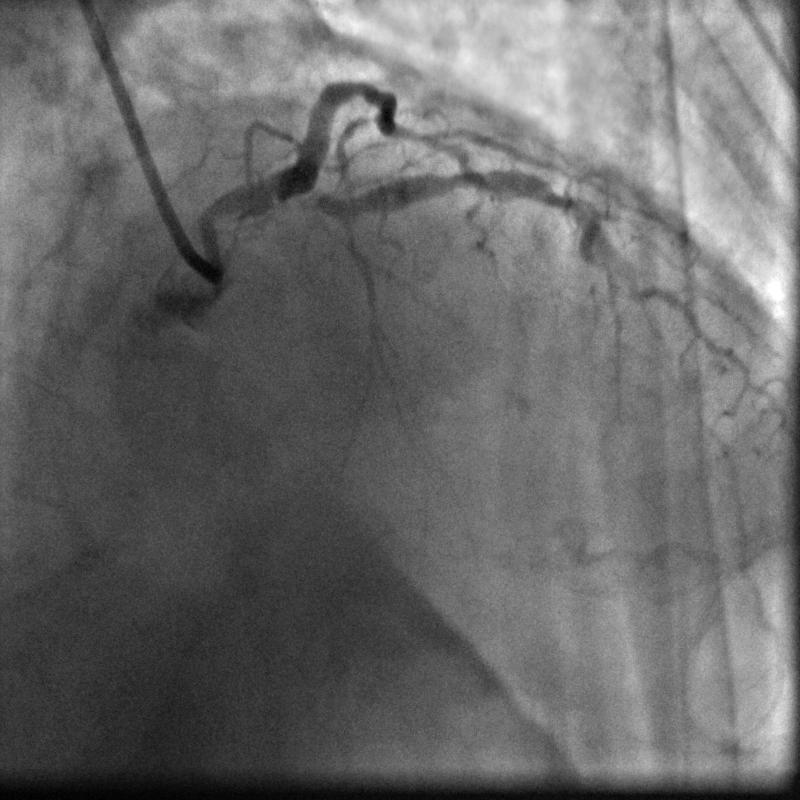Stenosis: (295, 176, 334, 219)
